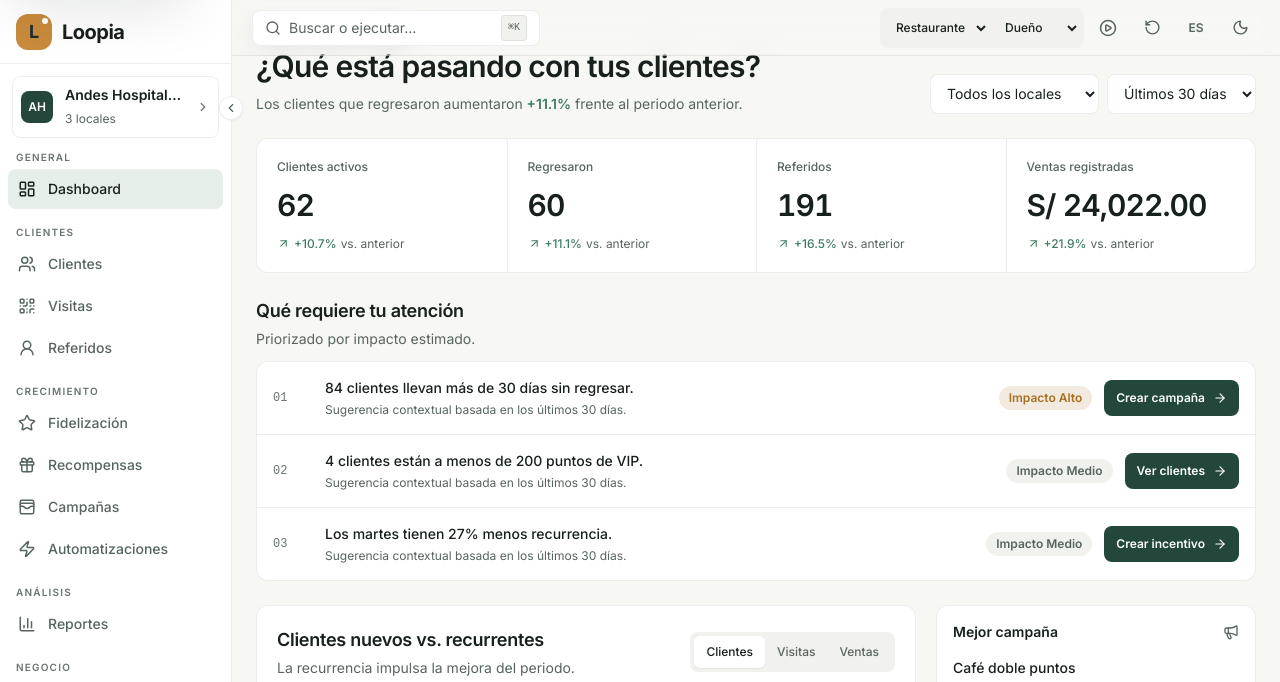
language toggle changes navigation copy
(page scrolled)
Click the button with aria-label "Cambiar idioma".
click(1196, 28)  # box [1176,8,1216,48]
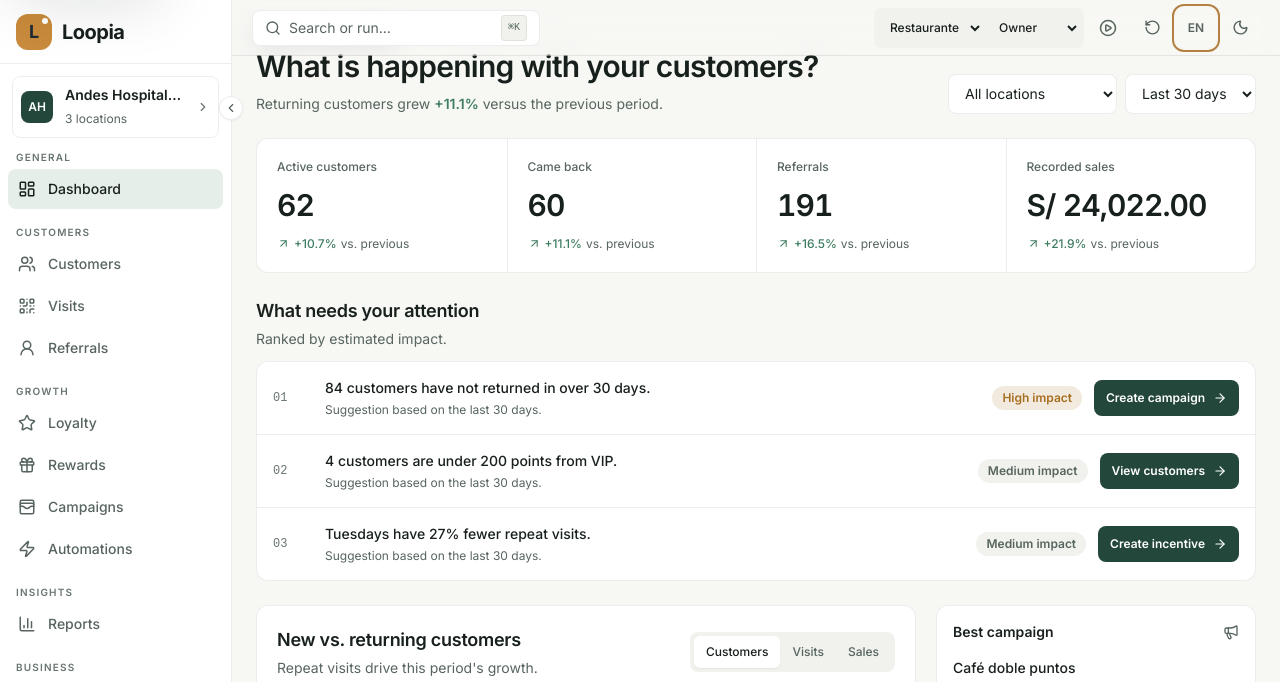
Expected: the text "Customers" is shown, [16,226,90,238]
